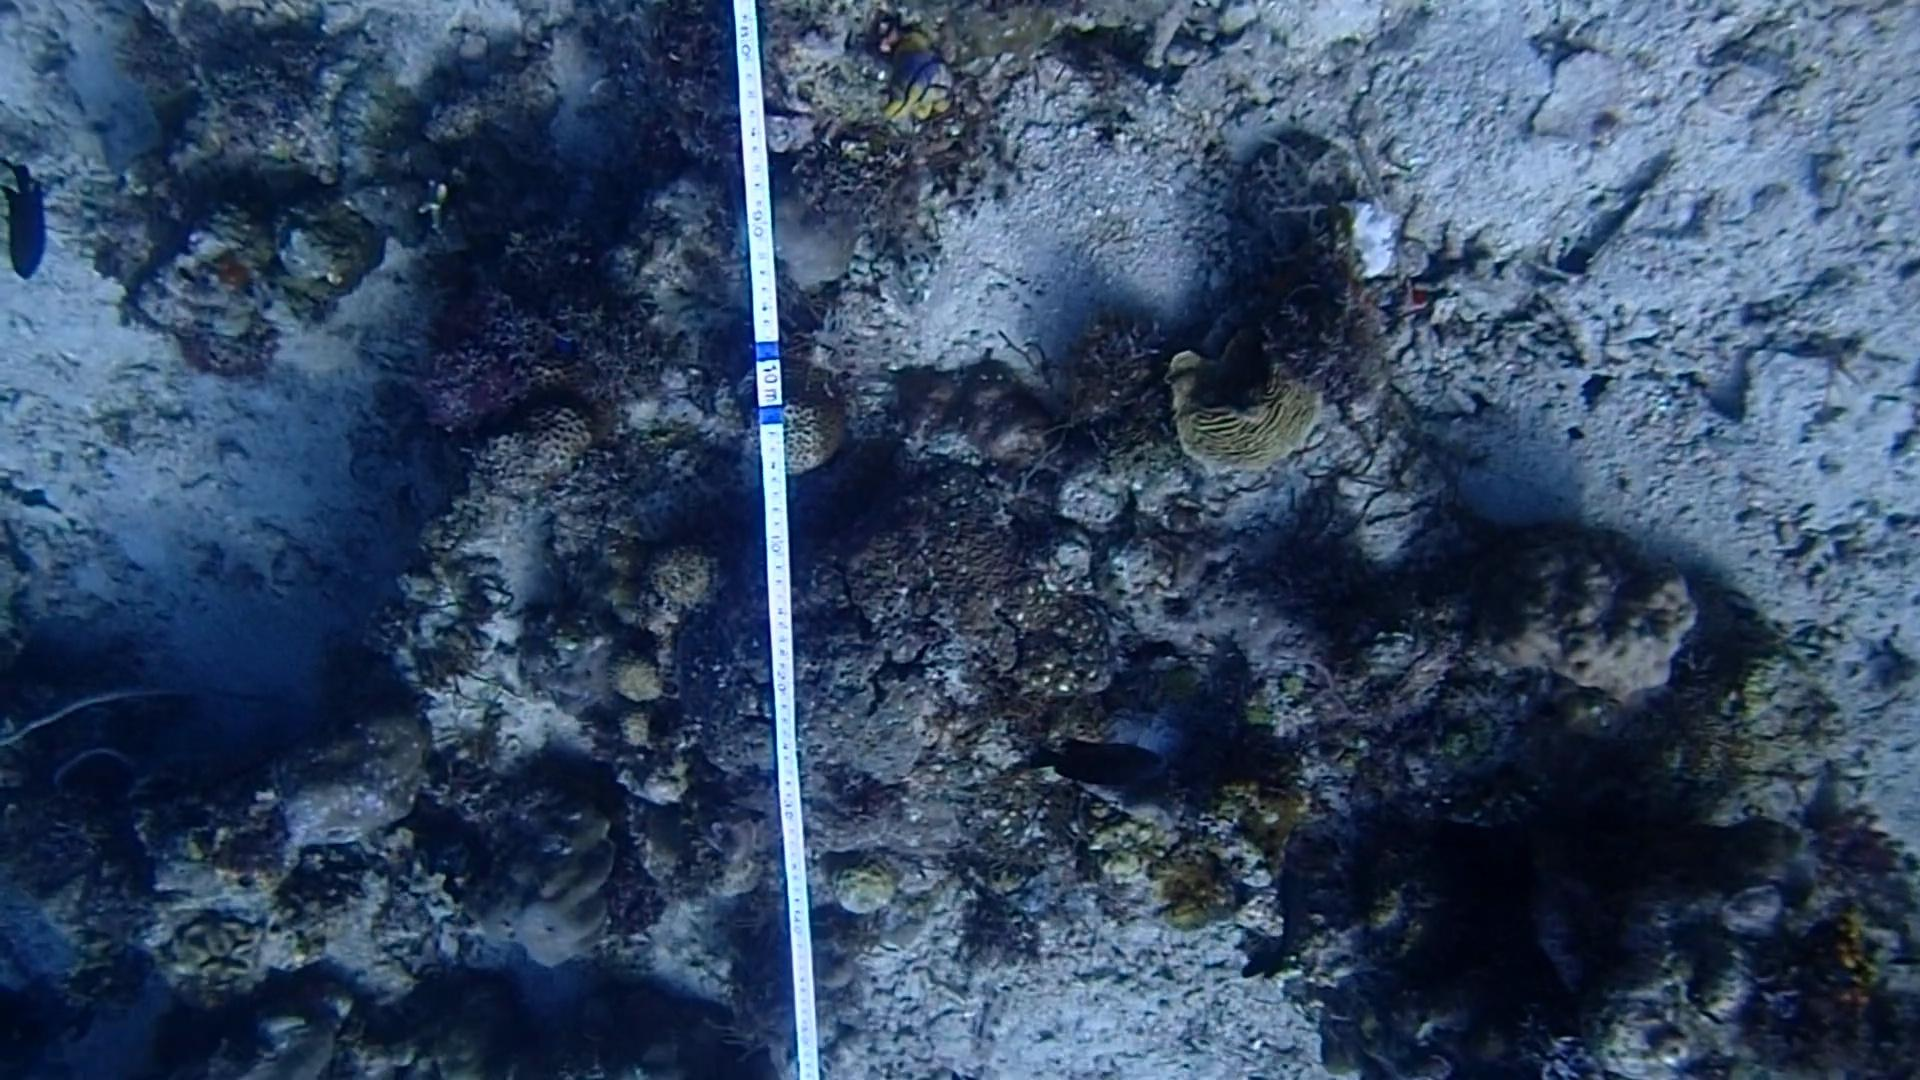Dark Fish: (1029, 728, 1167, 800), (0, 156, 51, 291)
